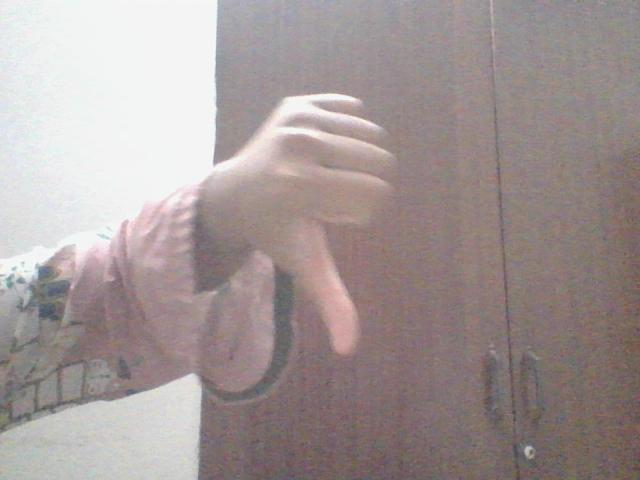thumbs-down: (259, 86, 405, 357)
